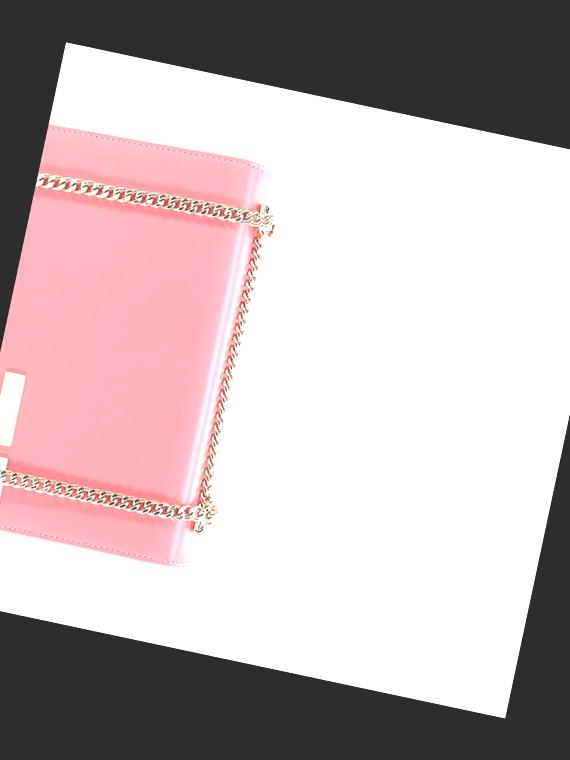ELISABETTA-FRANCHI: (0, 358, 46, 546)
